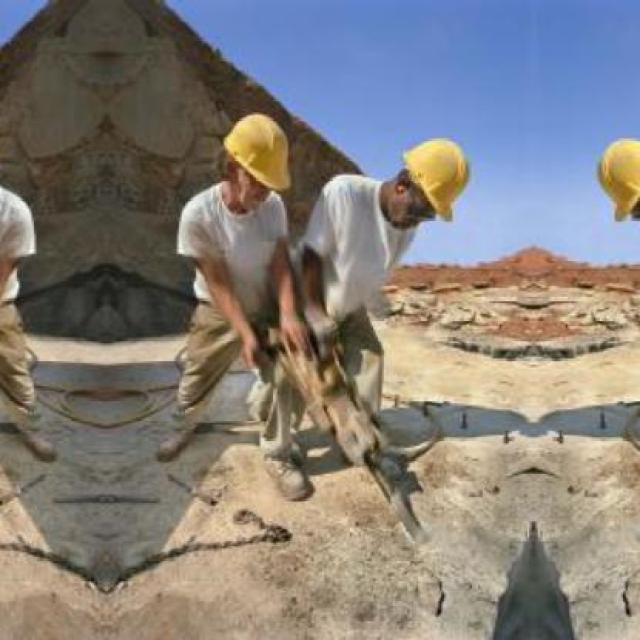helmet: (381, 134, 475, 229), (210, 108, 294, 212), (589, 134, 637, 231)
